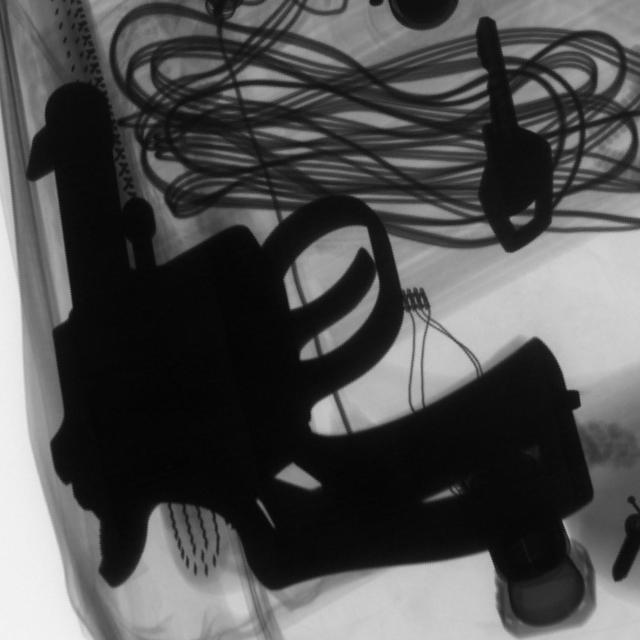gun: (26, 73, 592, 591)
